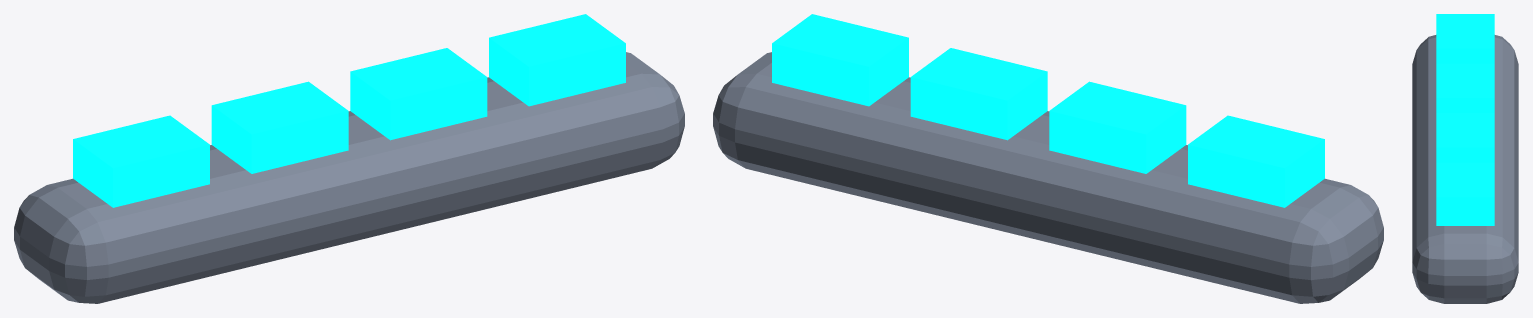
The model's file is vector-strip.glb.
3 renders of one model, left to right at view 1: azimuth 30°, elevation 25°; view 2: azimuth 150°, elevation 25°; view 3: azimuth 270°, elevation 25°, orthographic. The views are drawn at different scales.
Parts seen in each view (by area): view 1: VectorStrip, Seg_1, Seg_2, Seg_3, Seg_0; view 2: VectorStrip, Seg_1, Seg_2, Seg_3, Seg_0; view 3: VectorStrip, Seg_3, Seg_0, Seg_1, Seg_2.
Part boxes in pixels (x1,y1,x2,y2): VectorStrip: (14,52,684,303); Seg_1: (211,81,348,173); Seg_2: (350,48,487,140); Seg_3: (489,14,625,106); Seg_0: (73,115,209,207); VectorStrip: (713,52,1383,303); Seg_1: (1049,81,1186,173); Seg_2: (910,48,1047,140); Seg_3: (772,14,908,106); Seg_0: (1188,115,1324,207); VectorStrip: (1412,35,1518,303); Seg_3: (1436,162,1494,225); Seg_0: (1436,14,1494,63); Seg_1: (1436,63,1494,112); Seg_2: (1436,113,1494,162).
Size of the model in its own units: 0.5 by 0.1 by 0.1.
